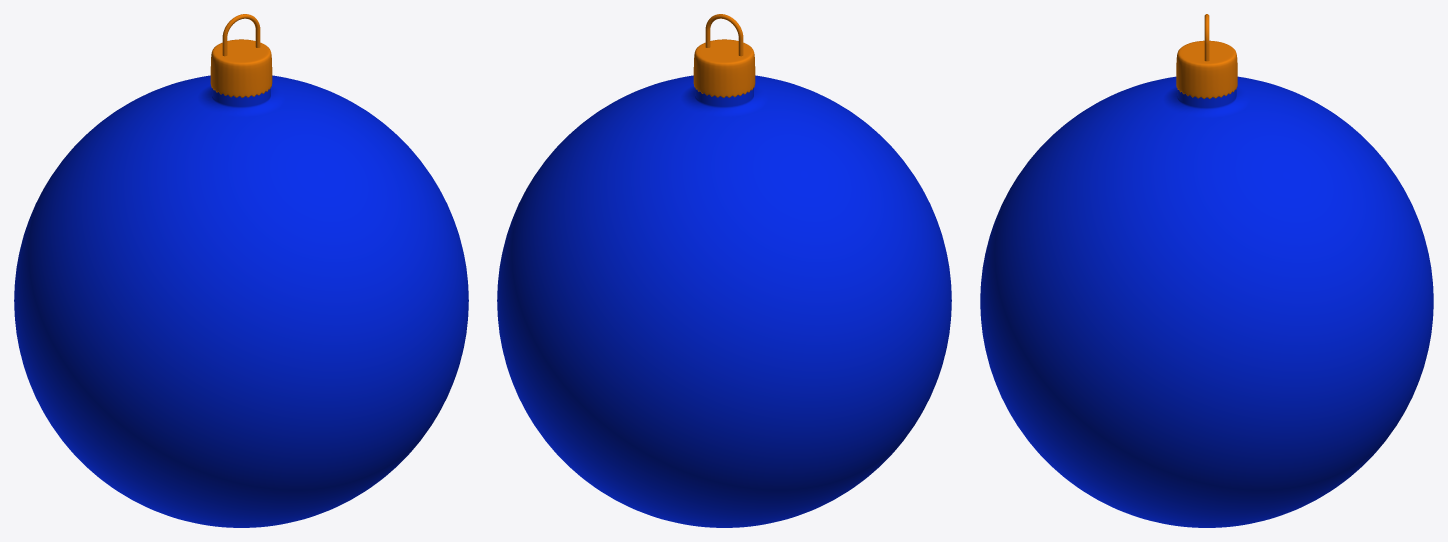
File: ChristmasBall_Blue.fbx
3 views of the same model, side by side, from view 1: azimuth 30°, elevation 25°; view 2: azimuth 150°, elevation 25°; view 3: azimuth 270°, elevation 25° (orthographic).
Visible parts, largest first — view 1: Sphere.002; view 2: Sphere.002; view 3: Sphere.002.
Boxes of the visible parts, bbox=[...] form: Sphere.002: bbox=[14, 14, 468, 527]; Sphere.002: bbox=[497, 14, 951, 527]; Sphere.002: bbox=[980, 14, 1433, 527].
Size of the model in its own units: 200 by 239 by 200.
